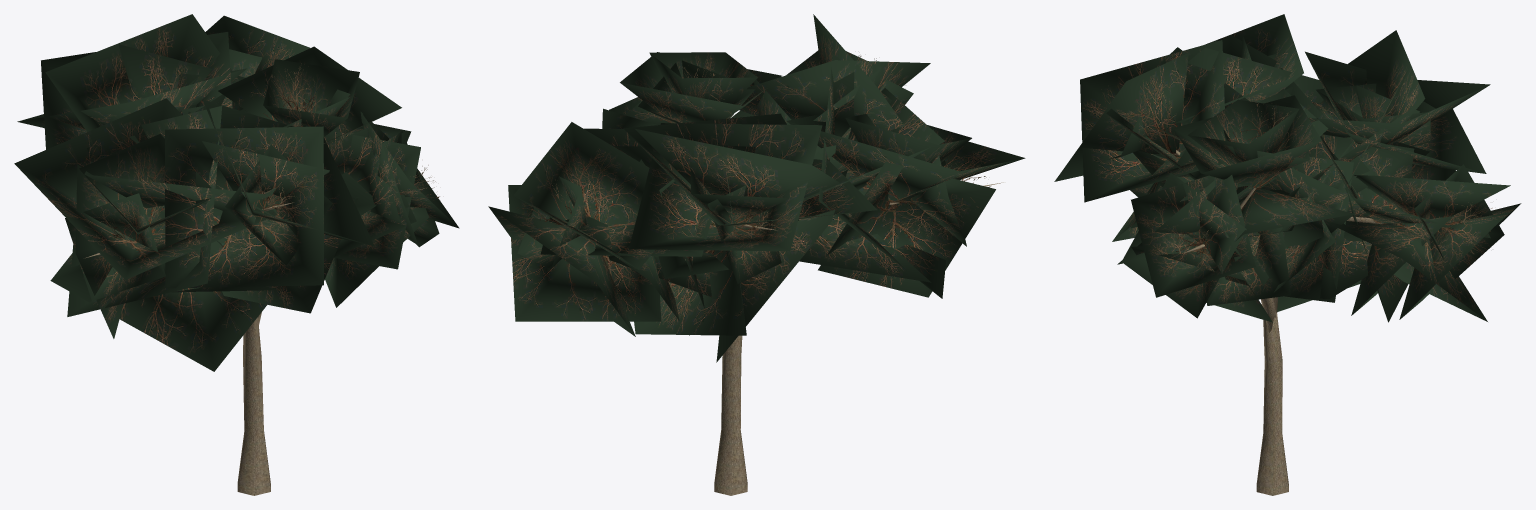
File: decd_mapletreebranches_a2_l0.fbx
3 views of the same model, side by side, from view 1: azimuth 30°, elevation 25°; view 2: azimuth 150°, elevation 25°; view 3: azimuth 270°, elevation 25° (orthographic). The views are drawn at different scales.
Parts seen in each view (by area): view 1: mesh_node; view 2: mesh_node; view 3: mesh_node.
Part boxes in pixels (box(x1,y1,x2,y2)): mesh_node: box(14, 14, 459, 495); mesh_node: box(488, 14, 1025, 495); mesh_node: box(1054, 14, 1521, 495).
Bounding box in the file's own units: 26.61 × 27.87 × 28.7.
